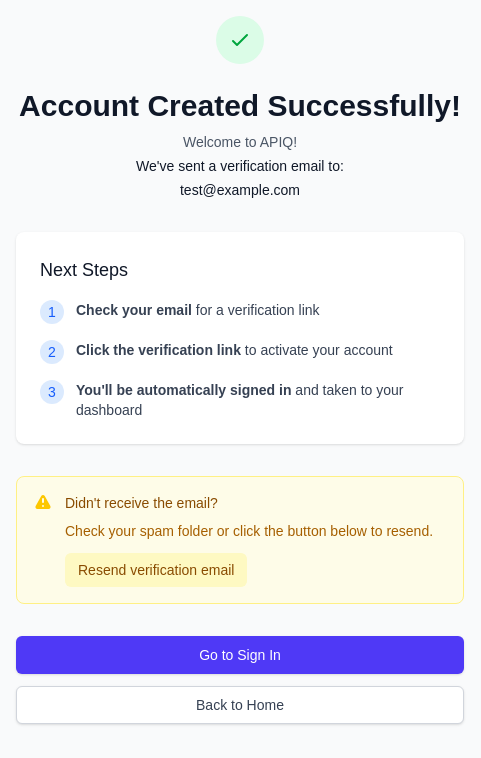
Test: SignupSuccessPage › should handle network errors during resend
Click the button "Resend verification email" at [156, 570], box top-left (65, 553), bottom-right (247, 587)
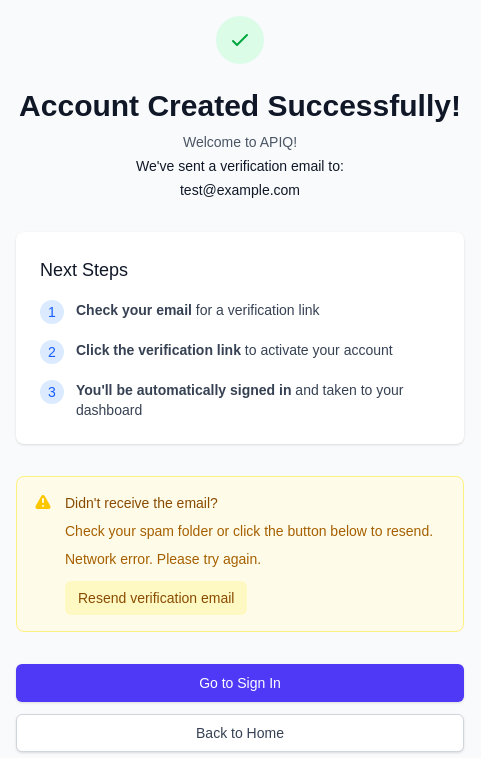
Expected: the text "Network error. Please try again." is shown, top-left (65, 551), bottom-right (261, 567)
